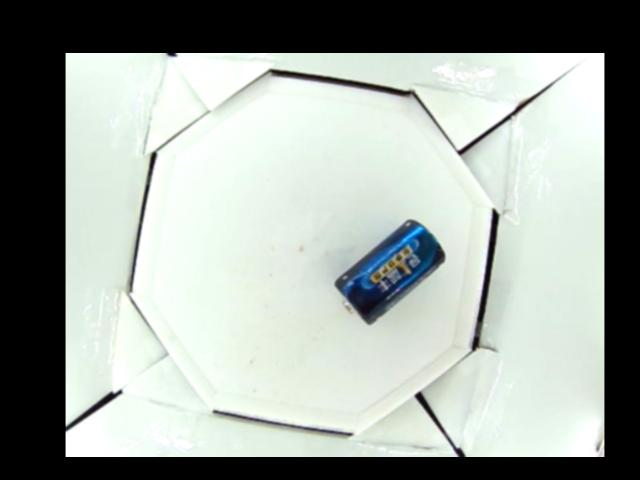Battery: (335, 217, 446, 325)
